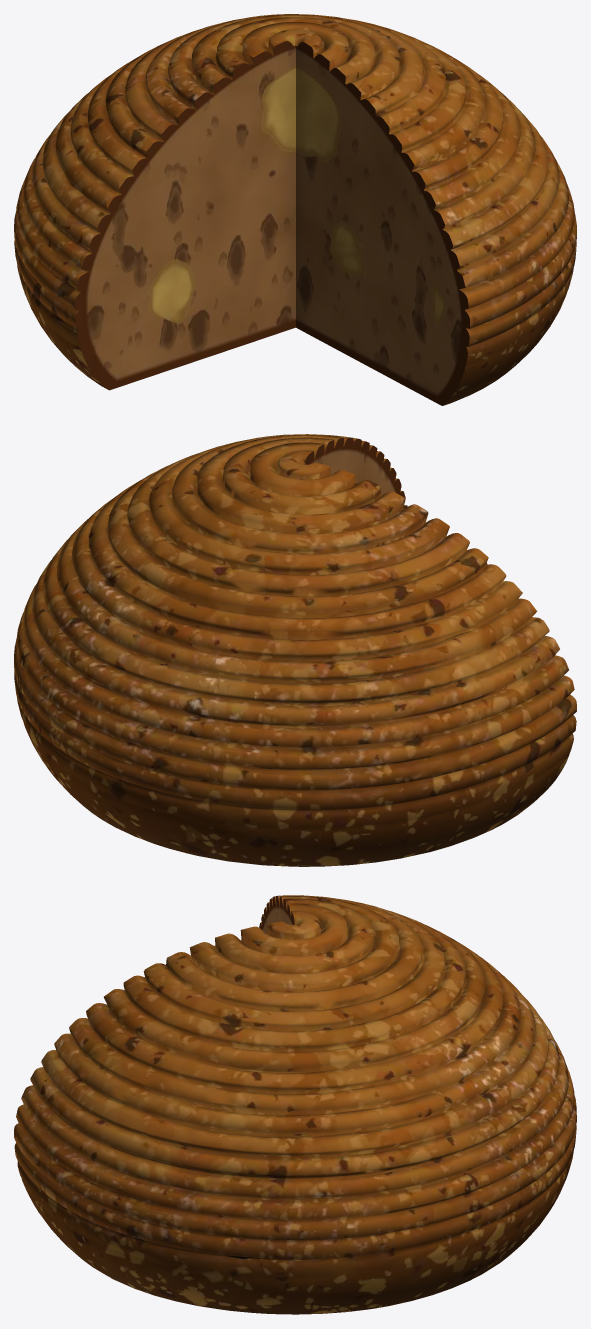
Rendered from wholewheat--chestnut-piece.glb.
3 renders of one model, top to bottom at view 1: azimuth 30°, elevation 25°; view 2: azimuth 150°, elevation 25°; view 3: azimuth 270°, elevation 25°, orthographic. The views are drawn at different scales.
Visible parts, largest first — view 1: wholewheat_chestnut-piece; view 2: wholewheat_chestnut-piece; view 3: wholewheat_chestnut-piece.
Boxes of the visible parts, x1,y1,x2,y2 form: wholewheat_chestnut-piece: [14, 14, 576, 405]; wholewheat_chestnut-piece: [14, 434, 576, 866]; wholewheat_chestnut-piece: [14, 895, 576, 1314].
Bounding box in the file's own units: 0.9999 × 0.5691 × 0.9915.
1 material, 1 textured.
